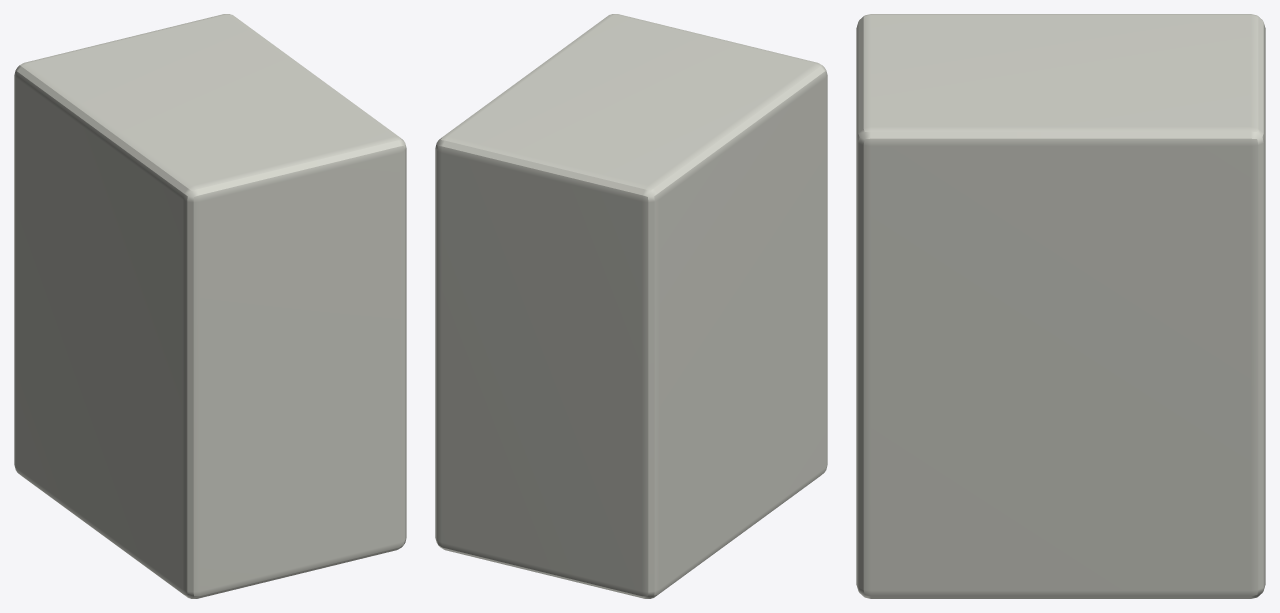
The model's file is table drawer.fbx.
The picture shows the model from 3 angles, left to right: view 1: azimuth 30°, elevation 25°; view 2: azimuth 150°, elevation 25°; view 3: azimuth 270°, elevation 25°; orthographic projection. The views are drawn at different scales.
Visible parts, largest first — view 1: table_drawer1; view 2: table_drawer1; view 3: table_drawer1.
Part boxes in pixels (x1,y1,x2,y2): table_drawer1: (14, 14, 406, 598); table_drawer1: (435, 14, 827, 598); table_drawer1: (856, 14, 1265, 598).
Size of the model in its own units: 59.85 by 106 by 83.62.
